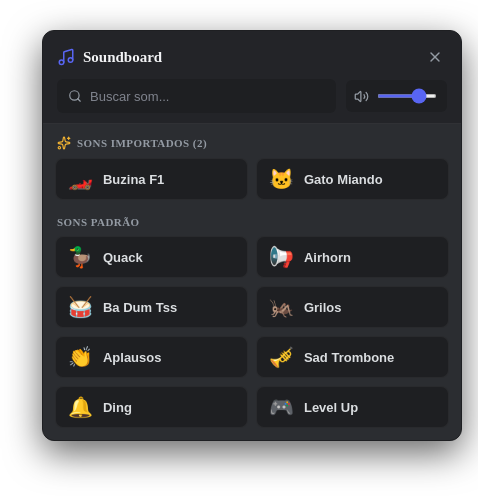
Soundboard Feature › SoundboardPopover Component › filters sounds based on search input query
The image size is (478, 496).
Step 1. Type "Buzina" into the field with test id "soundboard-search-input" → (206, 96), box [88, 88, 325, 104]
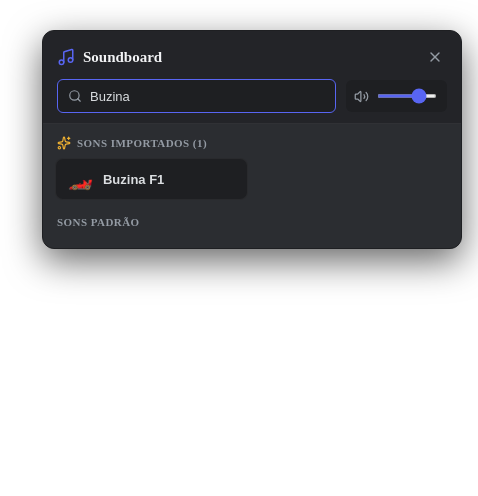
expect the text "Buzina F1" is shown: met, box [103, 172, 164, 186]
expect the button "Quack" is gone: met
expect the button "Gato Miando" is gone: met
